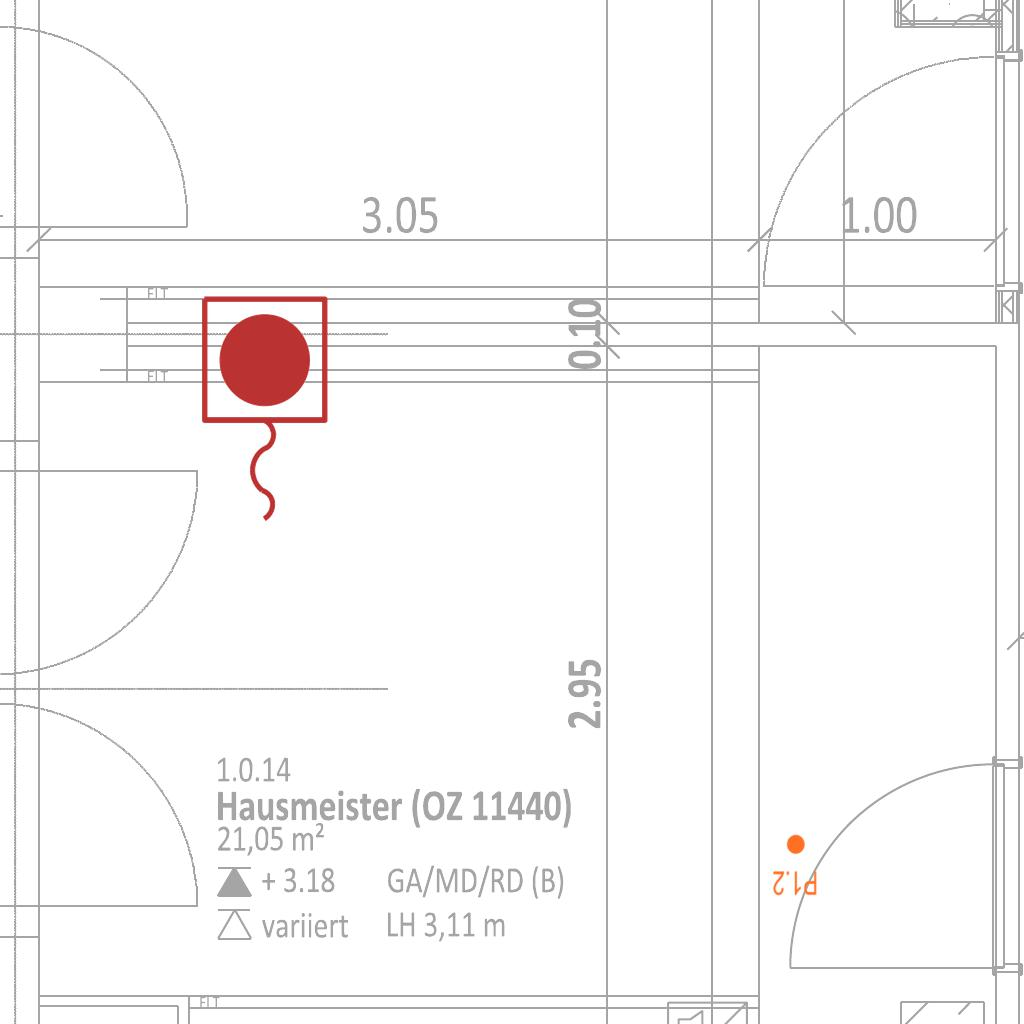Downlight_LED_Einbauleuchten_Flur: (772, 833, 818, 897)
Zugtaster: (191, 288, 335, 532)
